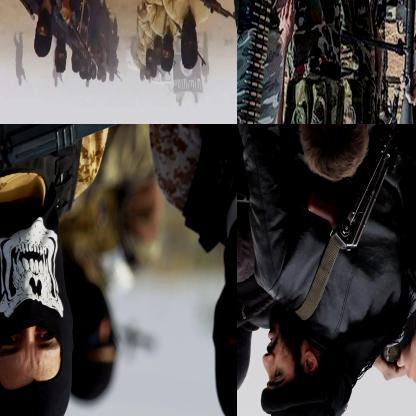rifle: (306, 124, 410, 253), (0, 124, 236, 169), (31, 0, 92, 58), (394, 0, 415, 123), (180, 0, 237, 25)
